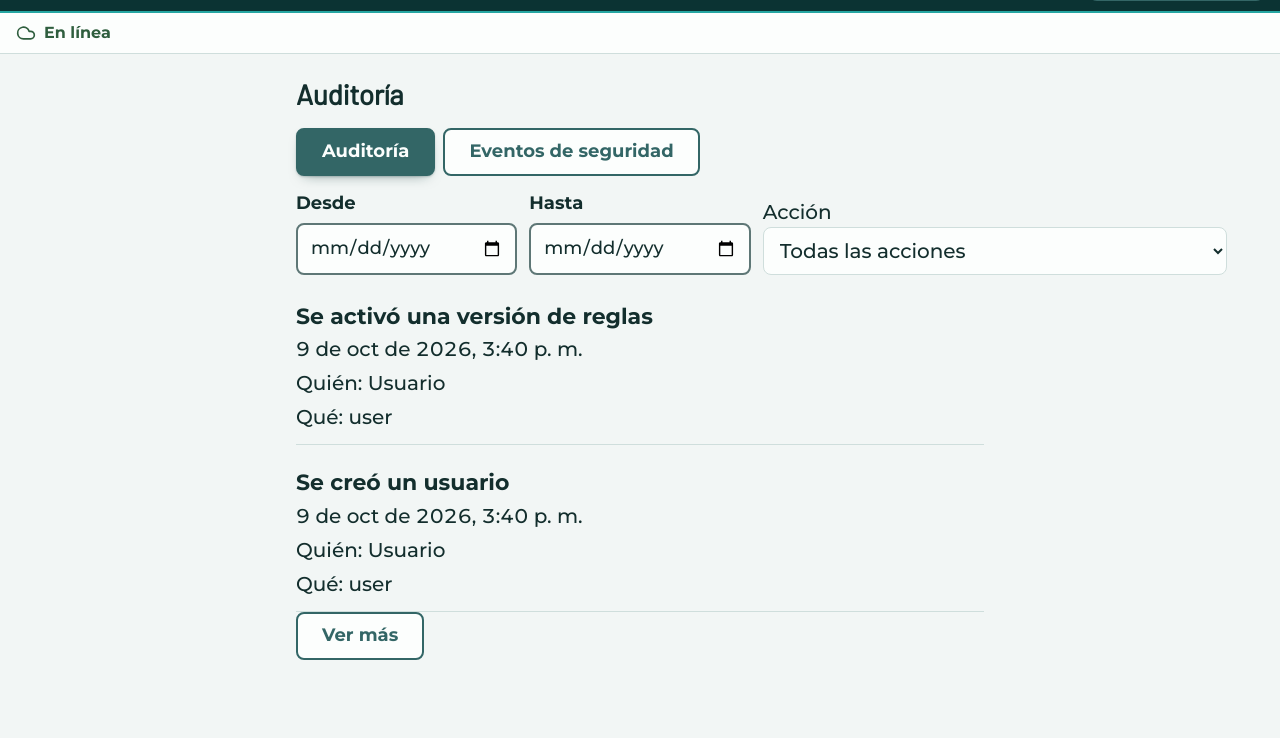
Test: audit log (F093) › pages with "Ver más" until the last entry, showing plain action names
The image size is (1280, 738).
Expected: the heading "Se creó un usuario" is shown, [296,470,509,496]
Click the button "Ver más" at (360, 636), box [296,612,424,660]
(page scrolled)
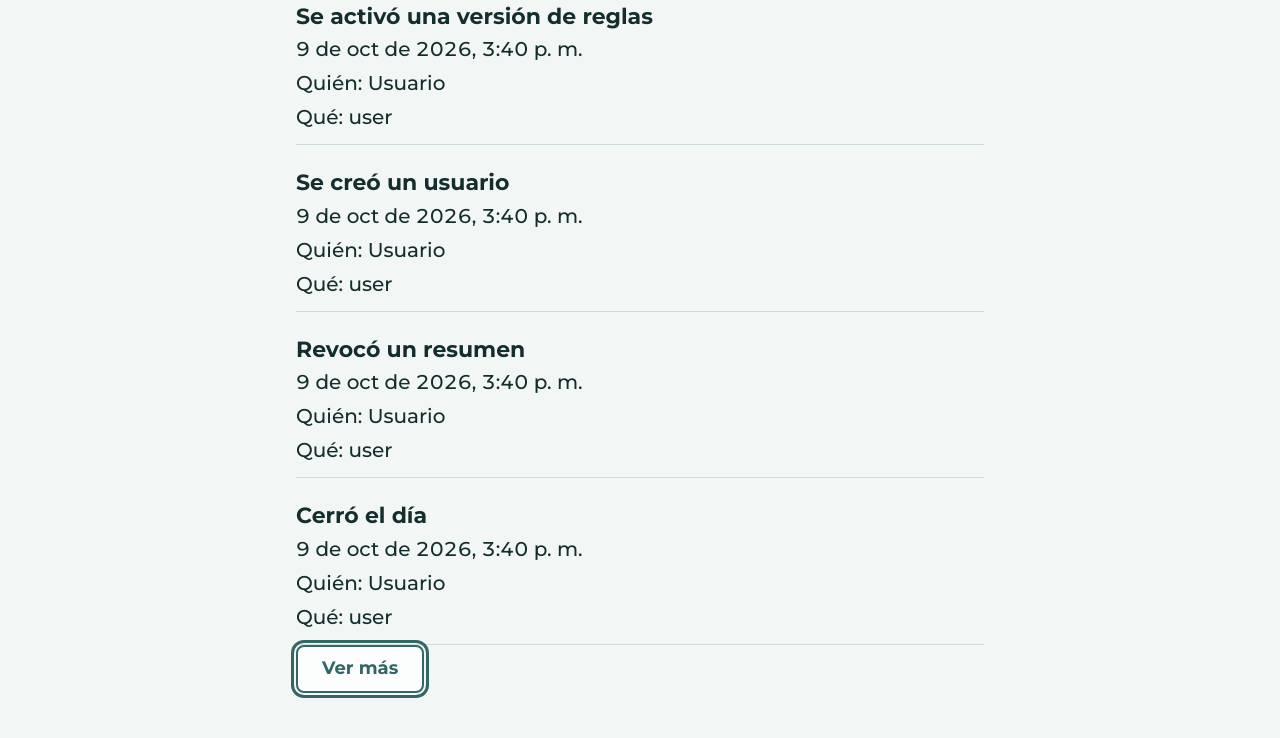
Click the button "Ver más" at (360, 669), box [296,645,424,693]
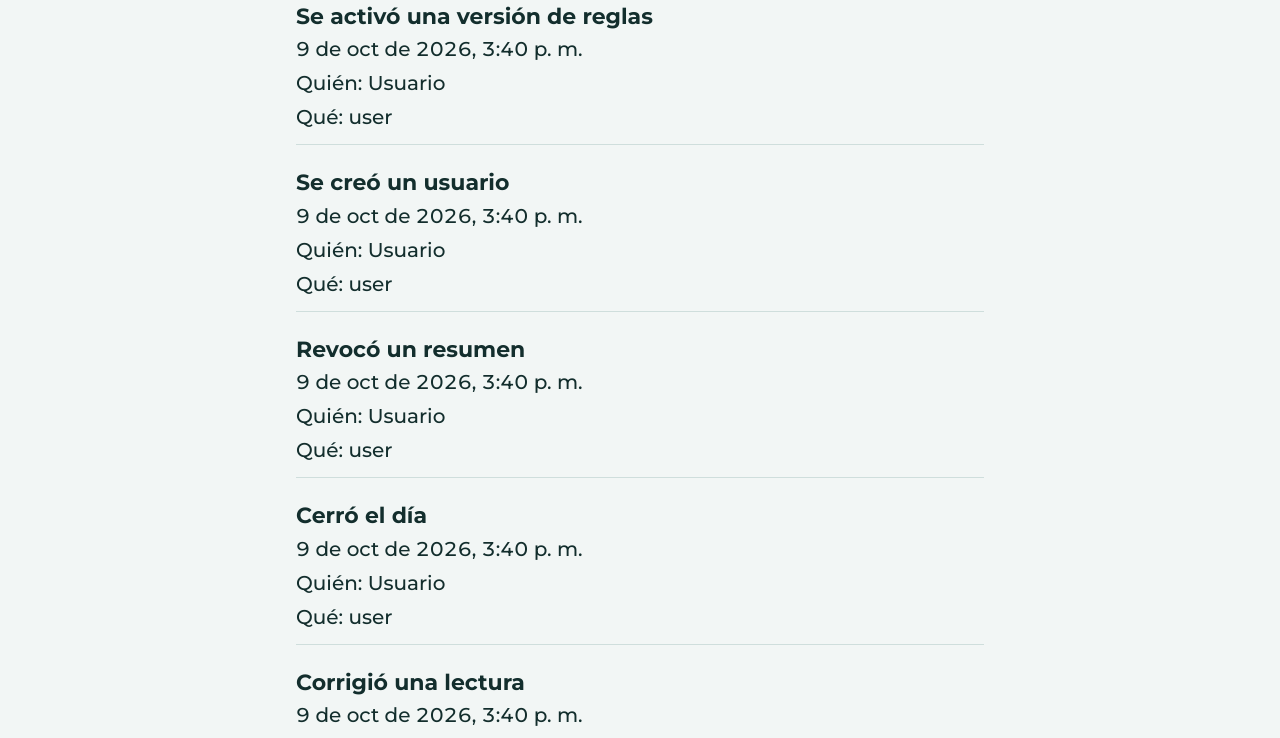
Now the heading "Cerró el día" is shown, box [296,502,427,530]
Now the button "Ver más" is gone
